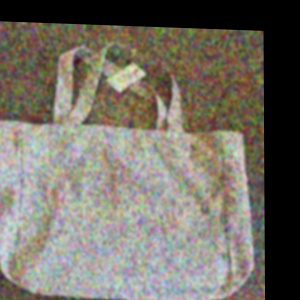stradivarius: (174, 114, 229, 288)
